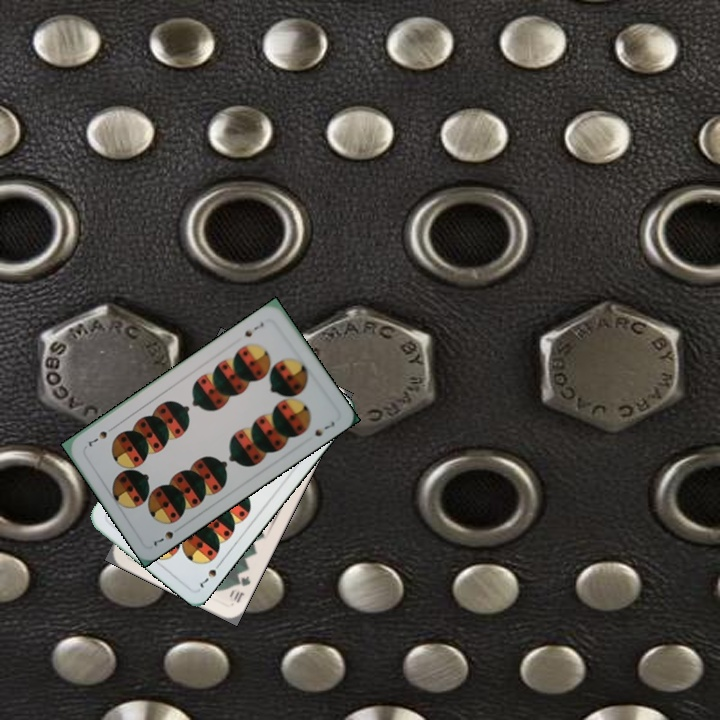G10: (229, 572, 253, 605)
S7: (195, 557, 225, 590), (149, 527, 176, 549), (240, 318, 266, 340)
